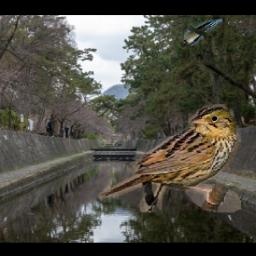Sparrow: (99, 104, 241, 212)
Swallow: (184, 20, 223, 47)
